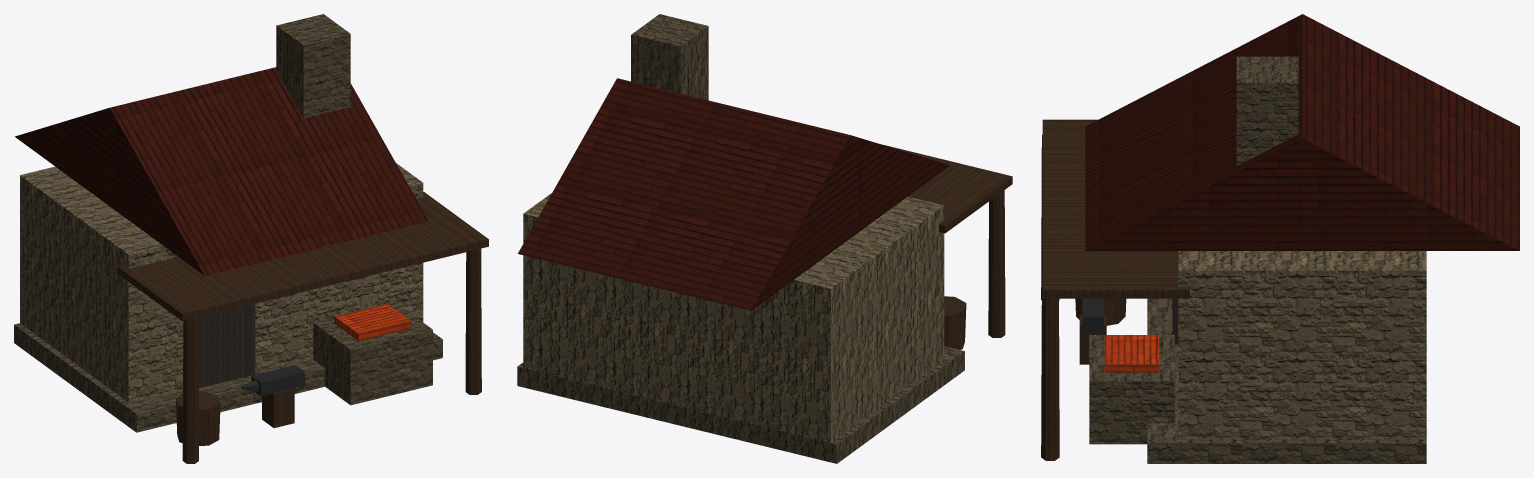
File: smithy_01.glb
3 views of the same model, side by side, from view 1: azimuth 30°, elevation 25°; view 2: azimuth 150°, elevation 25°; view 3: azimuth 270°, elevation 25° (orthographic). The views are drawn at different scales.
Parts seen in each view (by area): view 1: smithy_01; view 2: smithy_01; view 3: smithy_01.
Part boxes in pixels (x1,y1,x2,y2): smithy_01: (14, 14, 488, 463); smithy_01: (517, 14, 1012, 463); smithy_01: (1041, 14, 1519, 463).
Size of the model in its own units: 5.2 by 5 by 6.17.
Materials: 7 (7 with a texture image).
